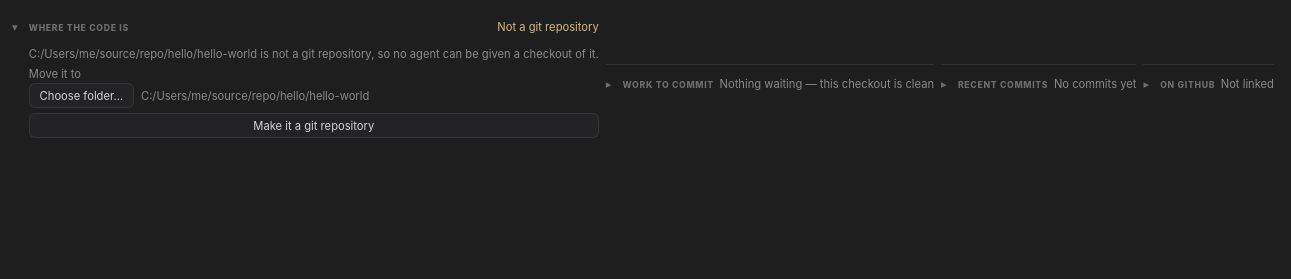
the git panel on a Solution › cannot create without GitHub connected, and says why
Click the button "▸ On GitHub Not linked".
click(1209, 84)  # box [1143, 72, 1274, 96]
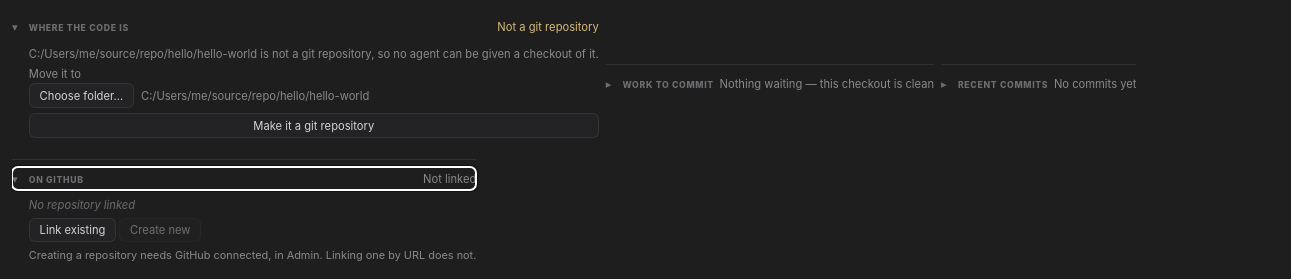
Now the button with aria-label "Create a repo for hello-world" is disabled, box [119, 218, 201, 242]
Now the button with aria-label "Link a repo to hello-world" is enabled, box [29, 218, 116, 242]
